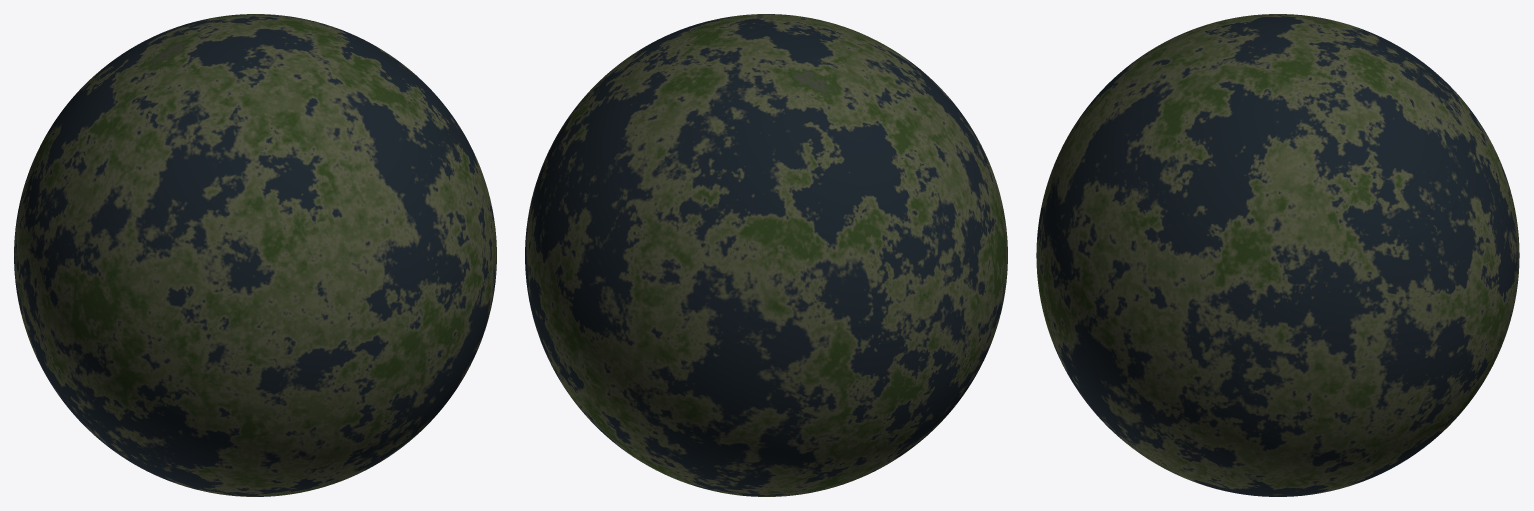
File: Mystra2.glb
The picture shows the model from 3 angles, left to right: view 1: azimuth 30°, elevation 25°; view 2: azimuth 150°, elevation 25°; view 3: azimuth 270°, elevation 25°; orthographic projection.
Visible parts, largest first — view 1: Planet; view 2: Planet; view 3: Planet.
Boxes of the visible parts, bbox=[...] form: Planet: bbox=[14, 14, 496, 496]; Planet: bbox=[525, 14, 1007, 496]; Planet: bbox=[1036, 14, 1519, 496].
Size of the model in its own units: 2 by 2 by 2.
Materials: 1 (1 with a texture image).
